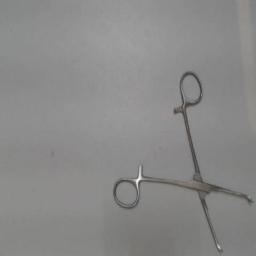Allis Tissue Forceps: (110, 67, 254, 255)
